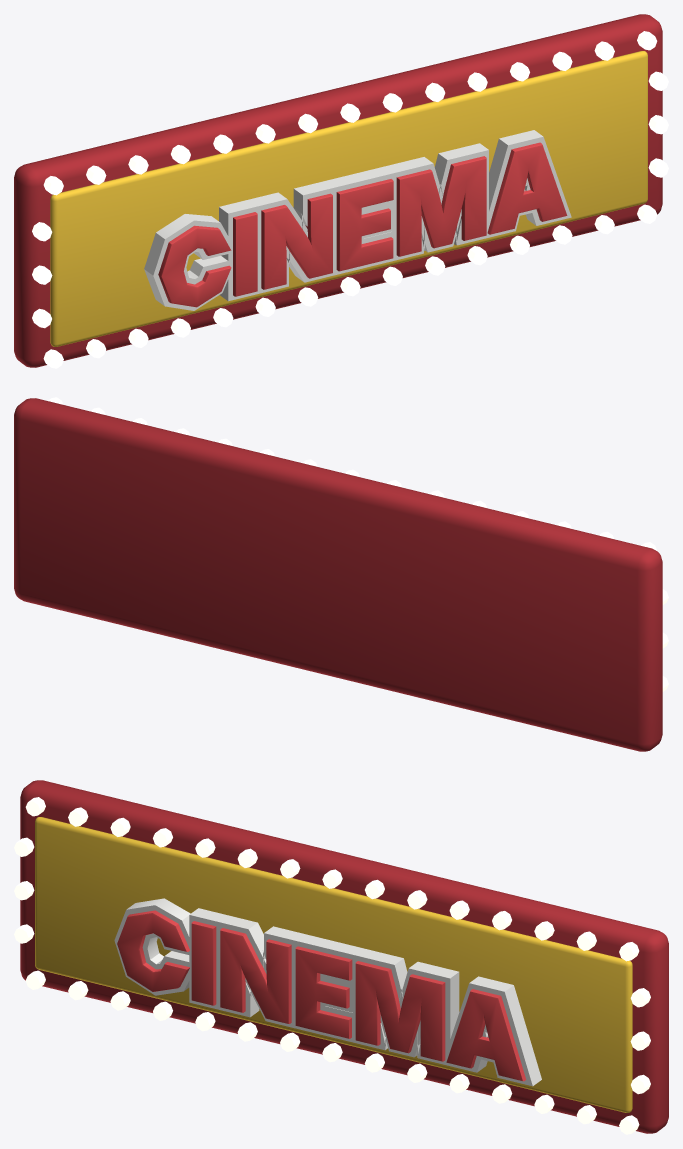
Rendered from letreiro_cinema_lampadas.glb.
The picture shows the model from 3 angles, top to bottom: view 1: azimuth 30°, elevation 25°; view 2: azimuth 150°, elevation 25°; view 3: azimuth 330°, elevation 25°; orthographic projection.
Visible parts, largest first — view 1: letreiro_cinema_lampadas, lampadas; view 2: letreiro_cinema_lampadas, lampadas; view 3: letreiro_cinema_lampadas, lampadas.
Boxes of the visible parts, x1,y1,x2,y2 form: letreiro_cinema_lampadas: (14, 14, 662, 367); lampadas: (32, 31, 668, 368); letreiro_cinema_lampadas: (14, 398, 662, 751); lampadas: (48, 397, 668, 691); letreiro_cinema_lampadas: (20, 780, 668, 1133); lampadas: (14, 797, 650, 1134).
Bounding box in the file's own units: 4.4 × 1.3 × 0.4158.
2 materials, 1 textured.
